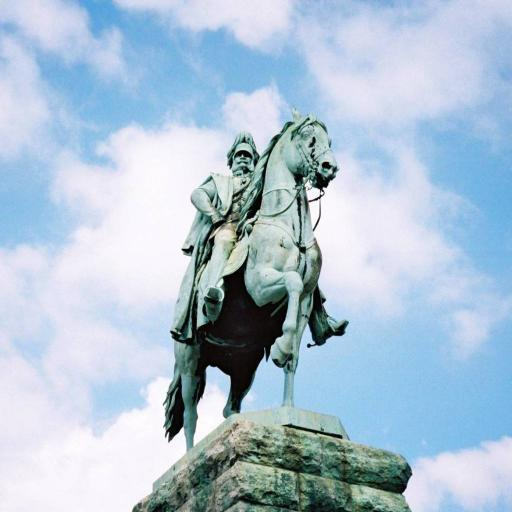horse: (162, 107, 340, 458)
